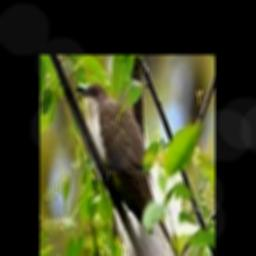Cuckoo: (76, 82, 188, 256)
